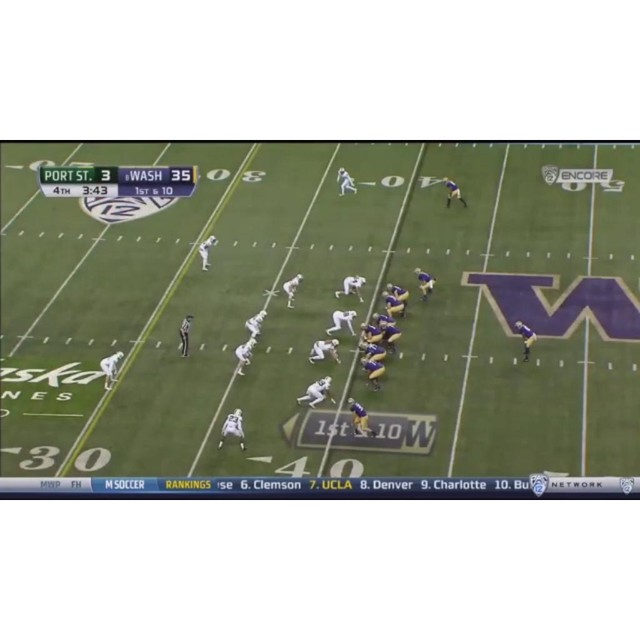american-football-player: (296, 375, 335, 408), (218, 408, 247, 451), (347, 397, 373, 438), (234, 335, 259, 376), (513, 320, 537, 362), (100, 351, 125, 390), (308, 338, 341, 365), (360, 357, 384, 393), (335, 276, 367, 303), (442, 177, 468, 209), (413, 267, 436, 303), (326, 310, 356, 337), (282, 273, 304, 309), (380, 321, 402, 355), (245, 309, 268, 341), (199, 235, 218, 272), (360, 341, 387, 364), (383, 292, 406, 318), (337, 167, 357, 196), (385, 282, 410, 304), (360, 322, 384, 344)
referee: (178, 314, 194, 358)
